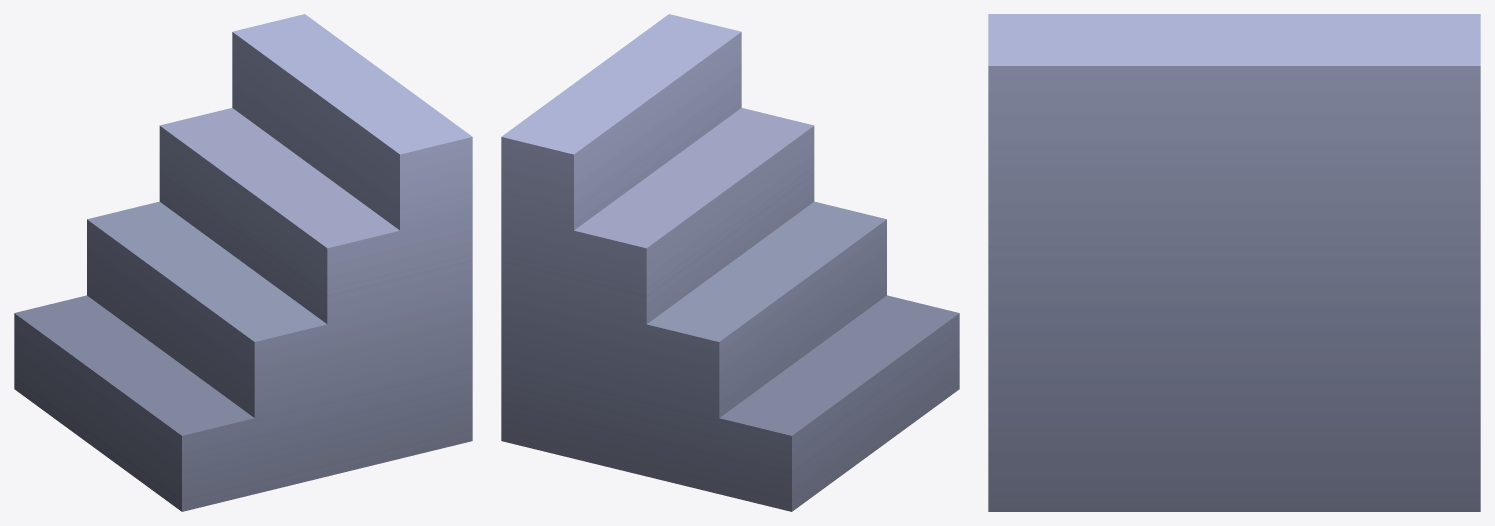
The model's file is stairs.fbx.
3 views of the same model, side by side, from view 1: azimuth 30°, elevation 25°; view 2: azimuth 150°, elevation 25°; view 3: azimuth 270°, elevation 25° (orthographic). The views are drawn at different scales.
Visible parts, largest first — view 1: stairs; view 2: stairs; view 3: stairs.
Part boxes in pixels (left/top/right/bottom): stairs: left=14, top=14, right=472, bottom=511; stairs: left=501, top=14, right=959, bottom=511; stairs: left=988, top=14, right=1480, bottom=511.
Size of the model in its own units: 100 by 100 by 100.
